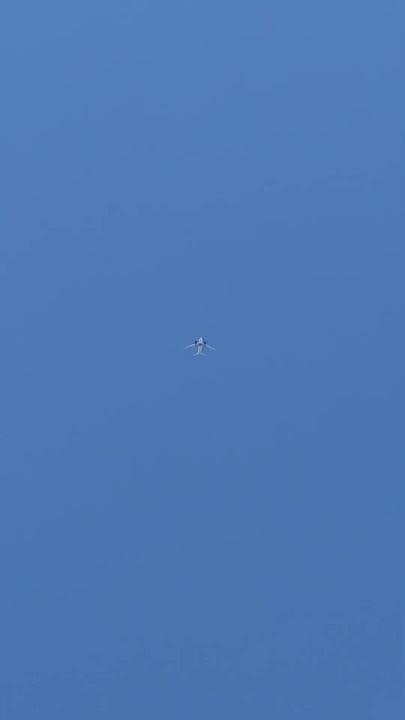Plane: (179, 324, 223, 370)
